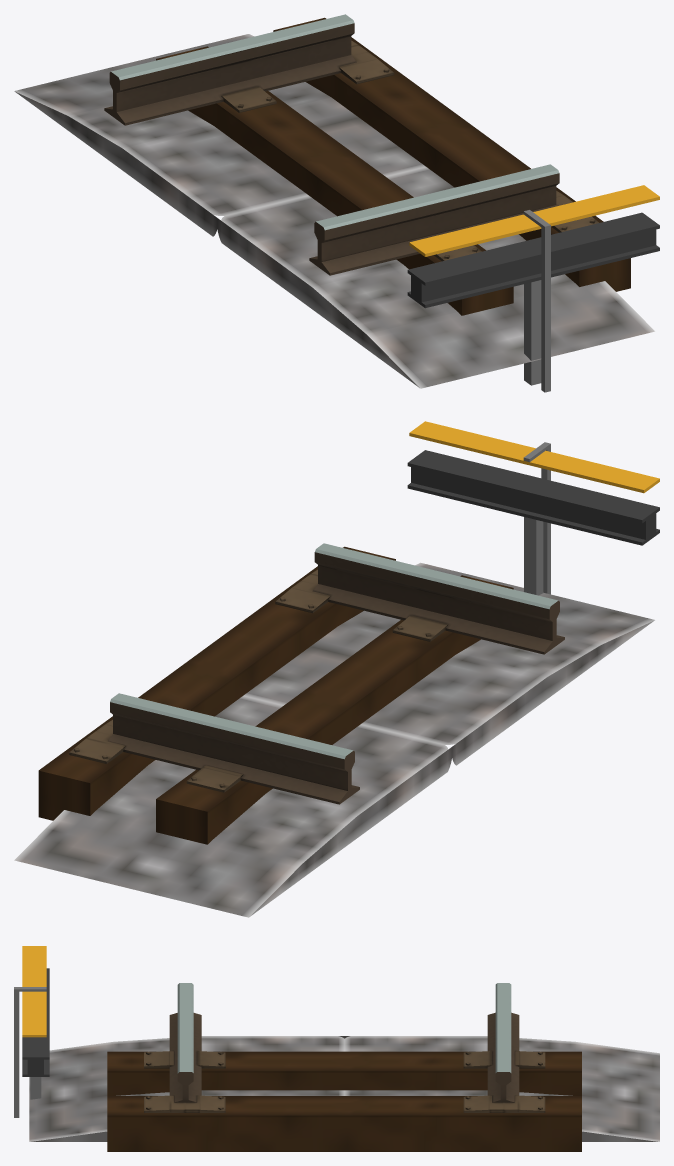
File: spsf_3rdrail_ballast_left.obj
3 views of the same model, one above another, from view 1: azimuth 30°, elevation 25°; view 2: azimuth 150°, elevation 25°; view 3: azimuth 270°, elevation 25° (orthographic). The views are drawn at different scales.
Parts seen in each view (by area): view 1: RAIL_BASE_Cube.001, RAIL_BASE.006_RAIL_BASE.004, RAIL_RIGHT_Cube.010, RAIL_LEFT_Cube.002, RAIL_BASE.002_RAIL_BASE.007, RAIL_BASE.003_RAIL_BASE.006, RAIL_BASE.004_RAIL_BASE.008, RAIL_BASE.005_Cube.003; view 2: RAIL_BASE_Cube.001, RAIL_BASE.006_RAIL_BASE.004, RAIL_LEFT_Cube.002, RAIL_RIGHT_Cube.010, RAIL_BASE.002_RAIL_BASE.007, RAIL_BASE.003_RAIL_BASE.006, RAIL_BASE.004_RAIL_BASE.008, RAIL_BASE.005_Cube.003; view 3: RAIL_BASE.003_RAIL_BASE.006, RAIL_BASE_Cube.001, RAIL_BASE.004_RAIL_BASE.008, RAIL_BASE.002_RAIL_BASE.007, RAIL_BASE.006_RAIL_BASE.004, RAIL_BASE.005_Cube.003, RAIL_LEFT_Cube.002, RAIL_RIGHT_Cube.010.
Boxes of the visible parts, left/top/right/bottom form: RAIL_BASE_Cube.001: left=14, top=34, right=654, bottom=388; RAIL_BASE.006_RAIL_BASE.004: left=407, top=185, right=659, bottom=392; RAIL_RIGHT_Cube.010: left=104, top=14, right=356, bottom=125; RAIL_LEFT_Cube.002: left=309, top=164, right=559, bottom=275; RAIL_BASE.002_RAIL_BASE.007: left=274, top=17, right=630, bottom=291; RAIL_BASE.003_RAIL_BASE.006: left=156, top=30, right=579, bottom=315; RAIL_BASE.004_RAIL_BASE.008: left=156, top=46, right=513, bottom=315; RAIL_BASE.005_Cube.003: left=221, top=40, right=598, bottom=261; RAIL_BASE_Cube.001: left=14, top=562, right=654, bottom=917; RAIL_BASE.006_RAIL_BASE.004: left=407, top=421, right=659, bottom=595; RAIL_LEFT_Cube.002: left=312, top=543, right=564, bottom=654; RAIL_RIGHT_Cube.010: left=108, top=693, right=359, bottom=804; RAIL_BASE.002_RAIL_BASE.007: left=38, top=546, right=395, bottom=820; RAIL_BASE.003_RAIL_BASE.006: left=90, top=559, right=513, bottom=844; RAIL_BASE.004_RAIL_BASE.008: left=156, top=575, right=512, bottom=844; RAIL_BASE.005_Cube.003: left=69, top=569, right=448, bottom=792; RAIL_BASE.003_RAIL_BASE.006: left=107, top=1071, right=581, bottom=1151; RAIL_BASE_Cube.001: left=29, top=1036, right=659, bottom=1141; RAIL_BASE.004_RAIL_BASE.008: left=107, top=1051, right=581, bottom=1071; RAIL_BASE.002_RAIL_BASE.007: left=107, top=1096, right=581, bottom=1115; RAIL_BASE.006_RAIL_BASE.004: left=14, top=946, right=49, bottom=1117; RAIL_BASE.005_Cube.003: left=144, top=1051, right=545, bottom=1112; RAIL_LEFT_Cube.002: left=169, top=983, right=201, bottom=1102; RAIL_RIGHT_Cube.010: left=487, top=983, right=519, bottom=1102.
Size of the model in its own units: 1.11 by 0.6752 by 3.07.
Materials: 2 (2 with a texture image).
